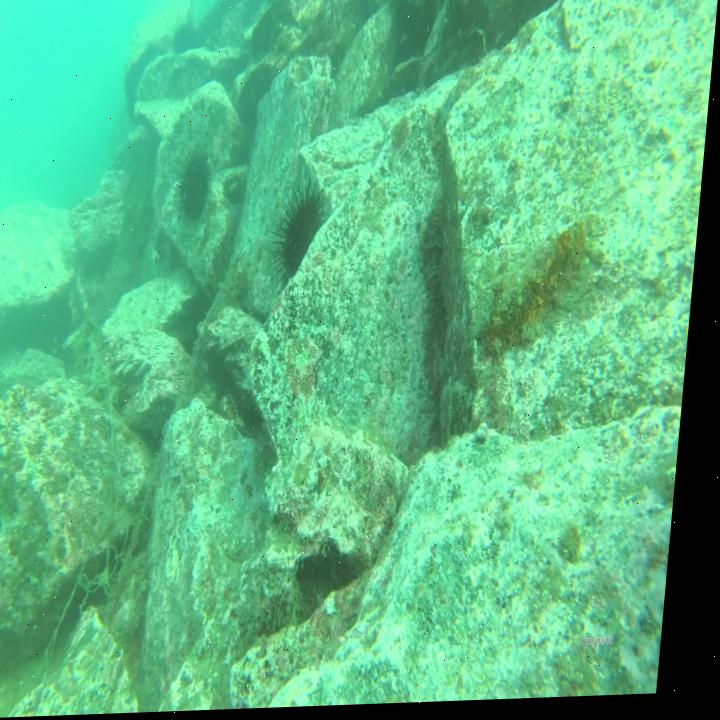echinus: (273, 176, 338, 289), (173, 149, 222, 228), (170, 16, 204, 60)
